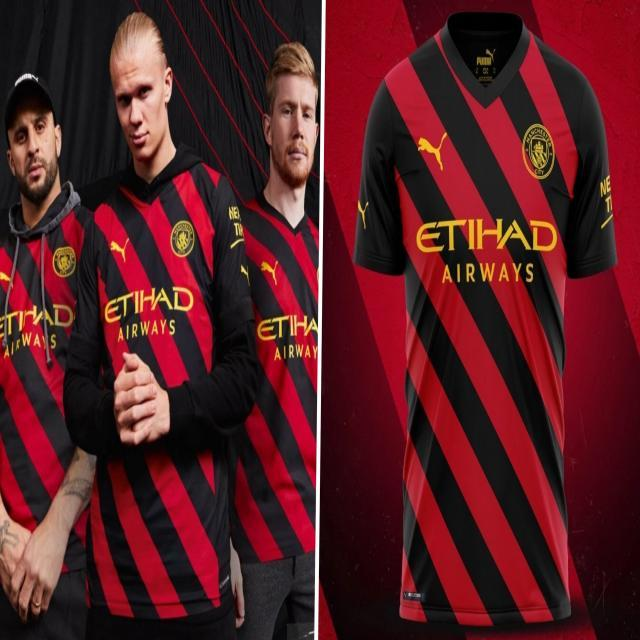Etihad Airways: (417, 216, 558, 284), (105, 285, 195, 342), (0, 302, 74, 358), (257, 314, 319, 362)
Puma: (417, 130, 449, 172), (110, 237, 130, 264), (261, 261, 280, 287), (357, 201, 370, 231), (1, 271, 15, 290), (240, 264, 250, 288)
